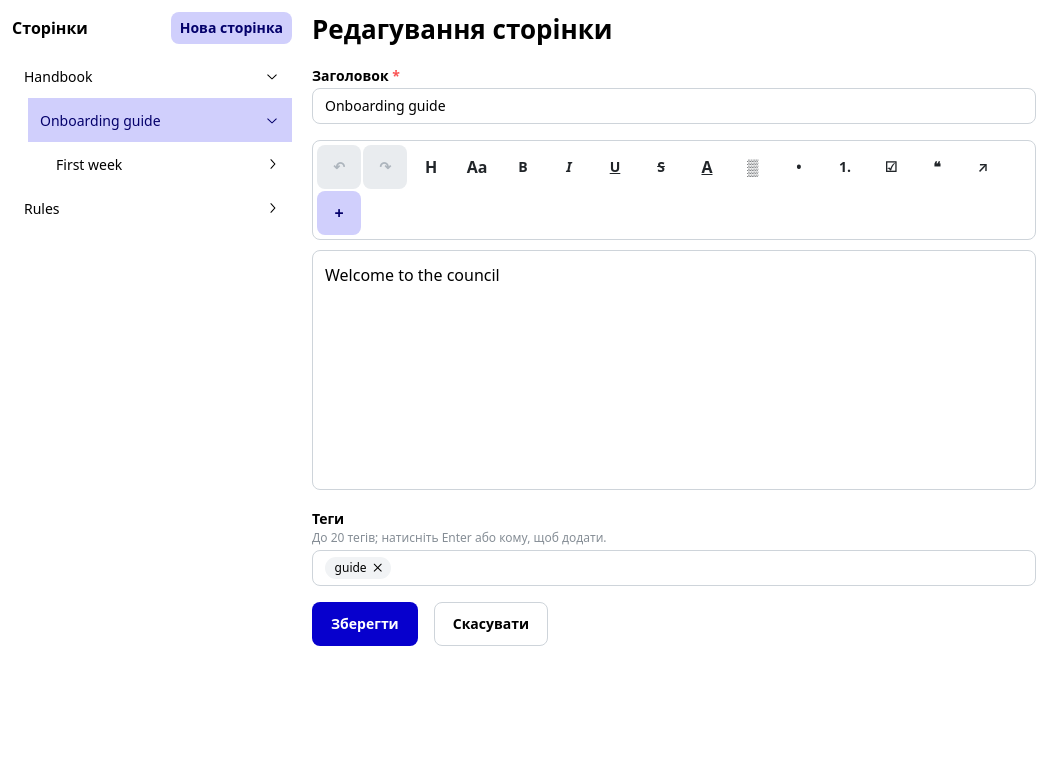
Test: edit mode › offers every block type in the Insert menu
Expected: the element showing "↶ ↷ H Aa B I U S A ▒ • 1. ☑ ❝ ↗ +" is shown, [312,140,1036,240]
Click the button named "Вставити блок".
click(339, 213)  # box [317,191,361,235]
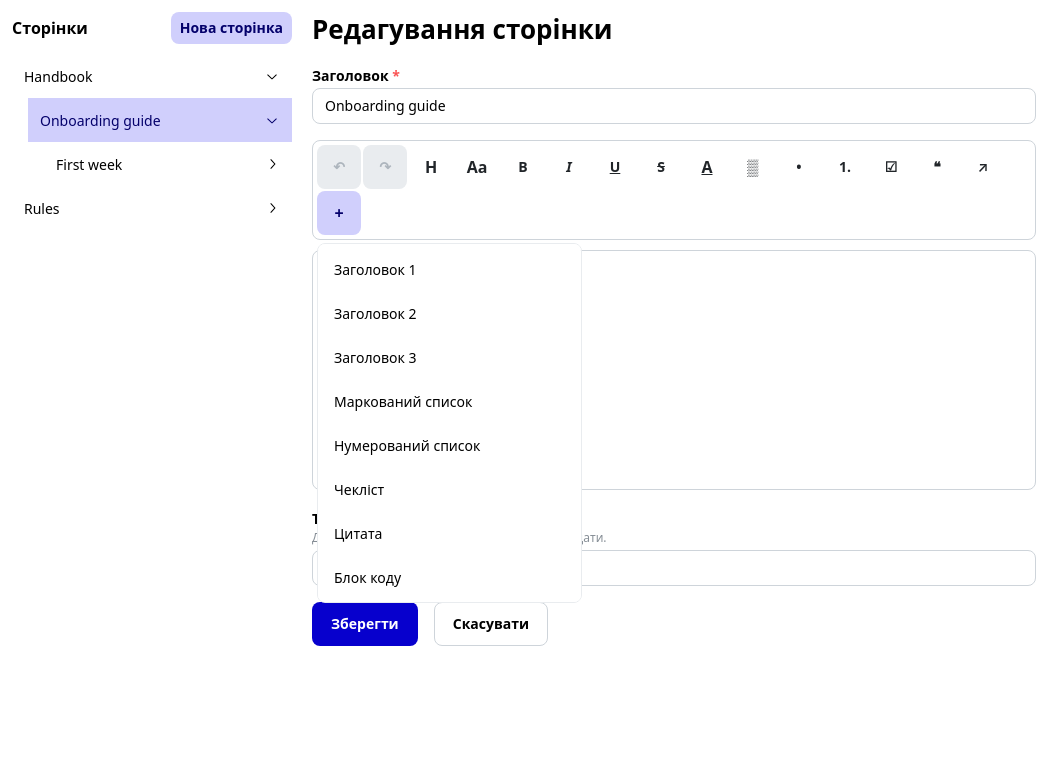
Result: the text "Заголовок 1" is shown at [334,260,417,279]
Result: the text "Маркований список" is shown at [334,392,472,411]
Result: the text "Нумерований список" is shown at [334,436,480,455]
